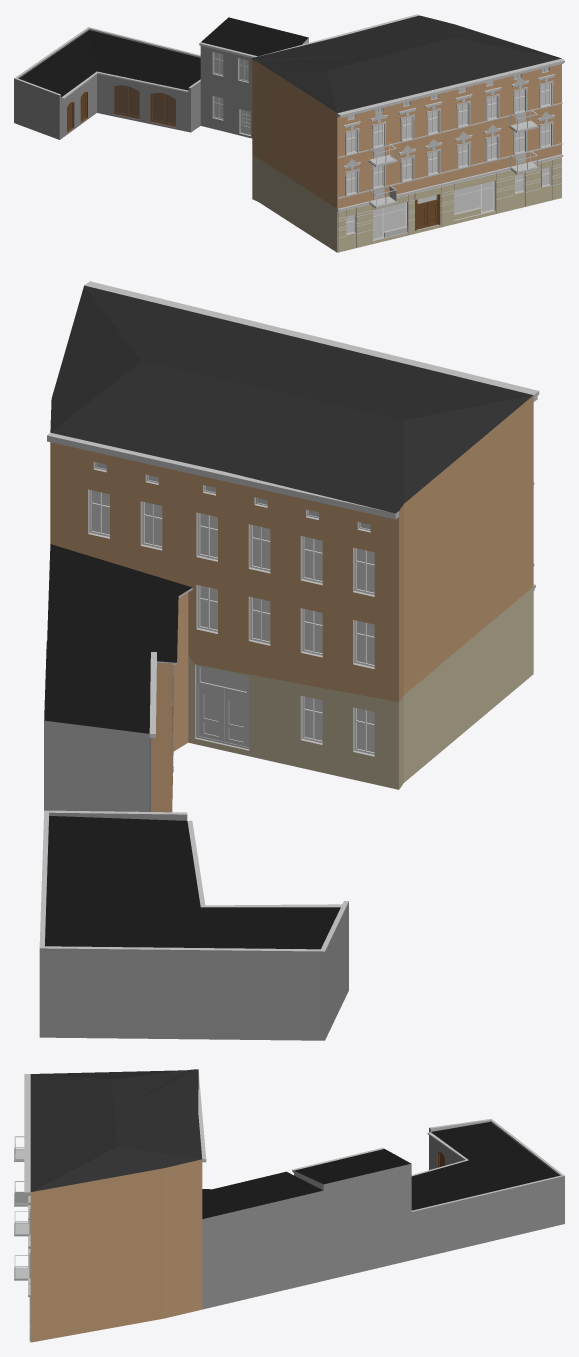
File: Tres.FBX
The picture shows the model from 3 angles, top to bottom: view 1: azimuth 30°, elevation 25°; view 2: azimuth 150°, elevation 25°; view 3: azimuth 270°, elevation 25°; orthographic projection. The views are drawn at different scales.
Visible parts, largest first — view 1: Mesh04_004, OKNO_R1_4, WITRYNA_2_, BRAMA_C5_1, BRAMA_C5_2; view 2: Mesh04_004, OKNO_R1_27, BRAMA_R4_1; view 3: Mesh04_004.
Boxes of the visible parts, <box> form: Mesh04_004: <box>14,14,564,252</box>; OKNO_R1_4: <box>347,83,551,195</box>; WITRYNA_2_: <box>346,167,551,240</box>; BRAMA_C5_1: <box>113,85,139,119</box>; BRAMA_C5_2: <box>150,93,175,127</box>; Mesh04_004: <box>39,281,539,1040</box>; OKNO_R1_27: <box>88,489,374,756</box>; BRAMA_R4_1: <box>195,664,249,750</box>; Mesh04_004: <box>14,1069,564,1342</box>.
Size of the model in its own units: 1530 by 647 by 2026.
